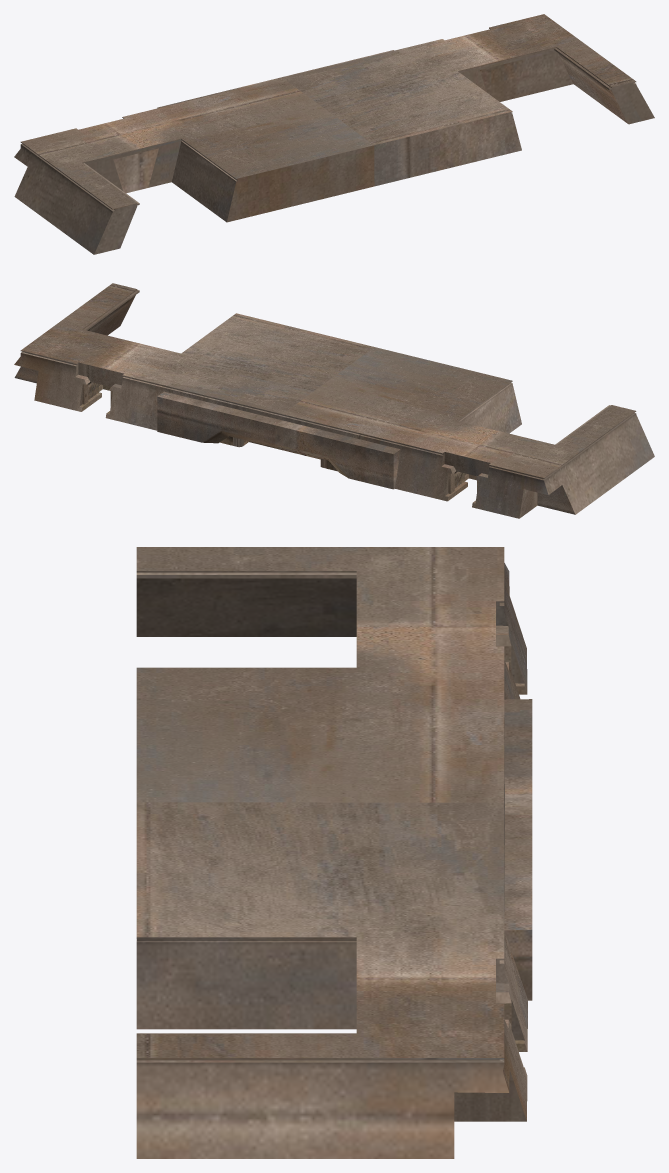
Rendered from xi_dsp_market_wall.gltf.
3 views of the same model, one above another, from view 1: azimuth 30°, elevation 25°; view 2: azimuth 150°, elevation 25°; view 3: azimuth 270°, elevation 25° (orthographic). The views are drawn at different scales.
Visible parts, largest first — view 1: xi_dsp_market_wall; view 2: xi_dsp_market_wall; view 3: xi_dsp_market_wall.
Part boxes in pixels (box(x1,y1,x2,y2)): xi_dsp_market_wall: box(14, 14, 654, 254); xi_dsp_market_wall: box(14, 283, 654, 518); xi_dsp_market_wall: box(136, 547, 532, 1158).
Bounding box in the file's own units: 150 × 10.53 × 45.77.
4 materials, 4 textured.
